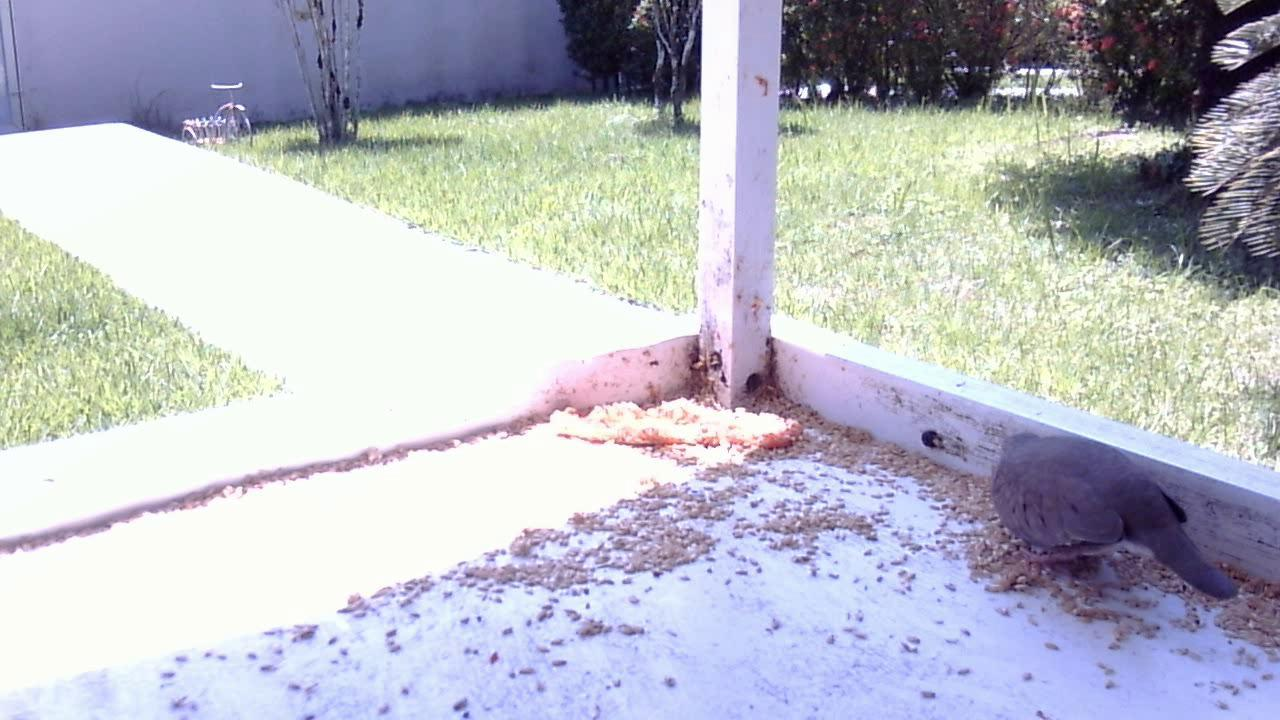rolinha: (956, 415, 1242, 616)
